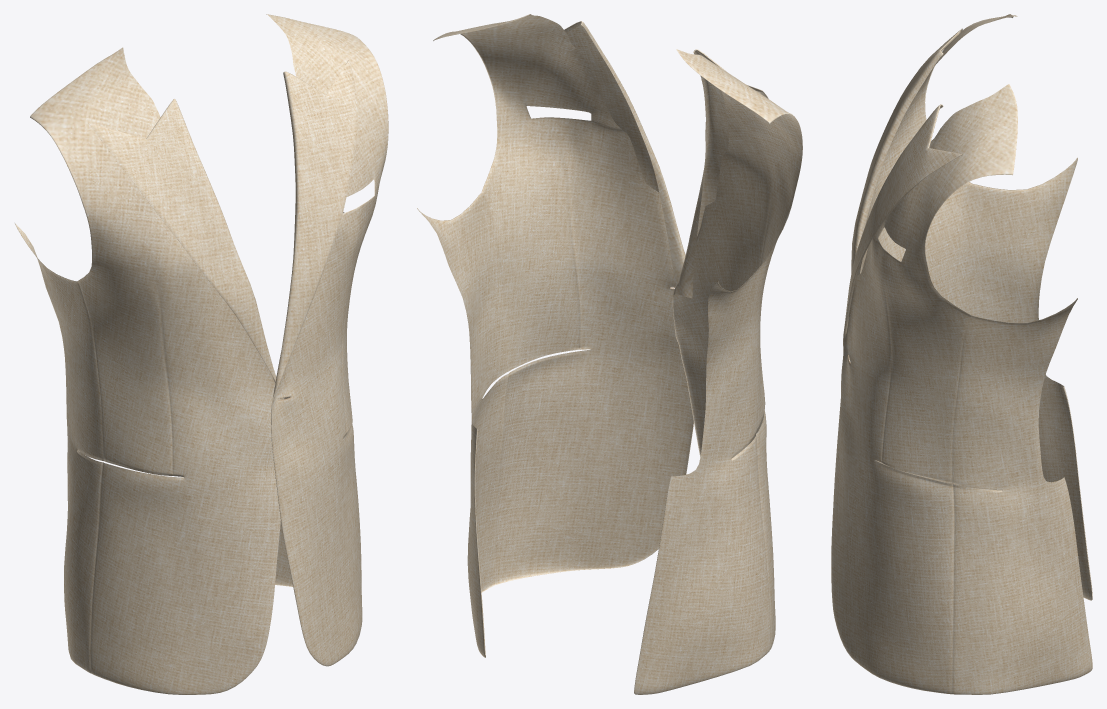
File: peak_single_button.glb
3 renders of one model, left to right at view 1: azimuth 30°, elevation 25°; view 2: azimuth 150°, elevation 25°; view 3: azimuth 270°, elevation 25°, orthographic. The views are drawn at different scales.
Parts seen in each view (by area): view 1: peak_single_button3; view 2: peak_single_button3; view 3: peak_single_button3.
Boxes of the visible parts, x1=… form: peak_single_button3: x1=15, y1=14, x2=388, y2=694; peak_single_button3: x1=417, y1=14, x2=802, y2=694; peak_single_button3: x1=831, y1=14, x2=1092, y2=694.
Size of the model in its own units: 0.0585 by 0.102 by 0.0411.
Materials: 2 (1 with a texture image).
